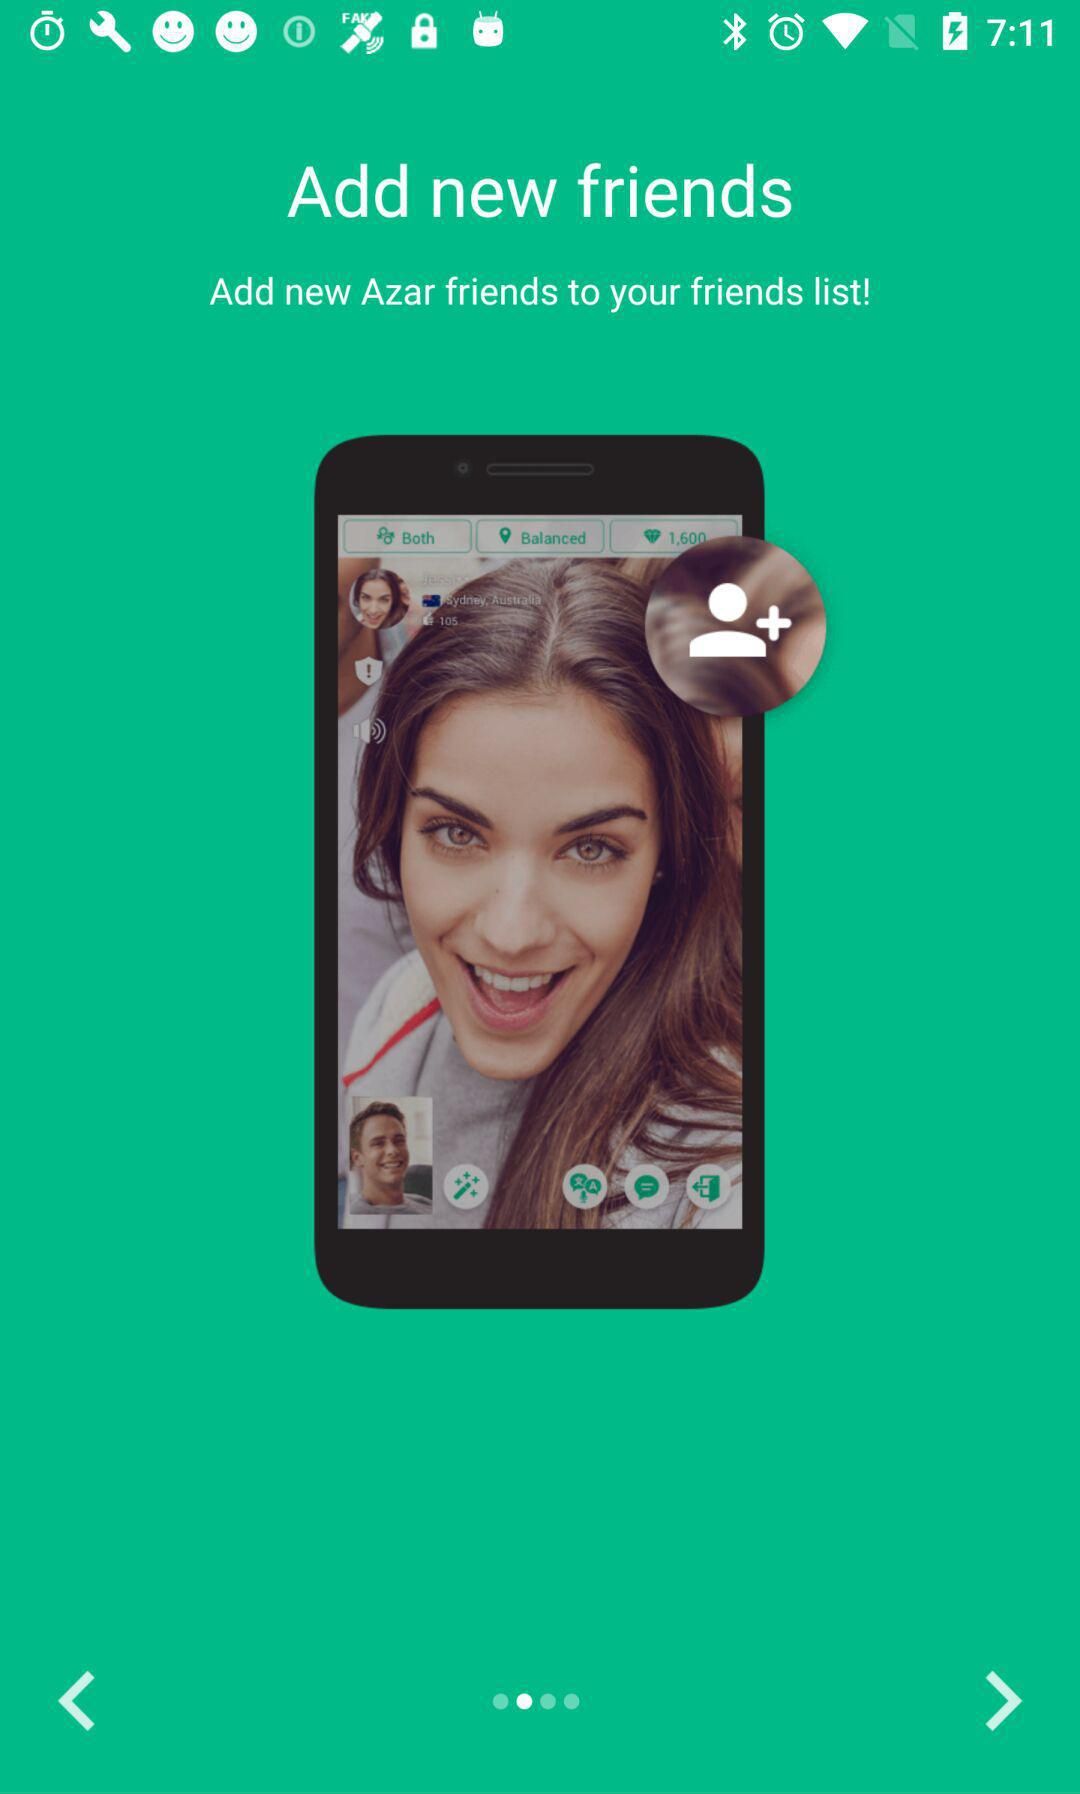Icon: (984, 1668, 1024, 1732), (58, 1670, 97, 1732)
Image: (314, 434, 826, 1310)
PageIndicator: (492, 1691, 582, 1712)
Text: (288, 163, 793, 220), (210, 276, 870, 315)
UpperTaskBar: (1, 1, 1080, 64)
